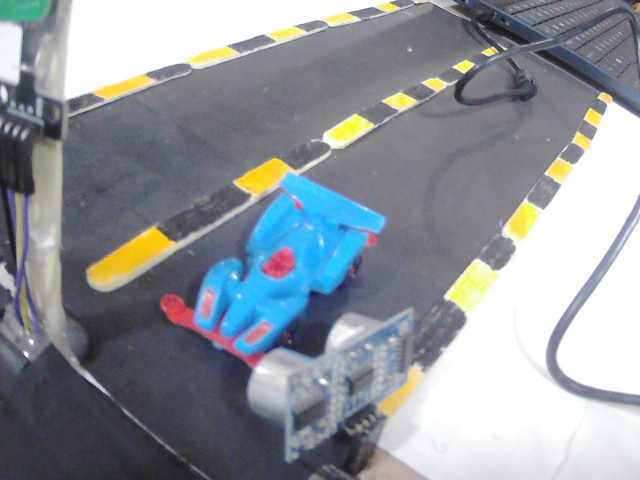car: (166, 175, 391, 359)
traffic_light: (0, 0, 69, 58)
uno_breadboard: (243, 300, 417, 461)
